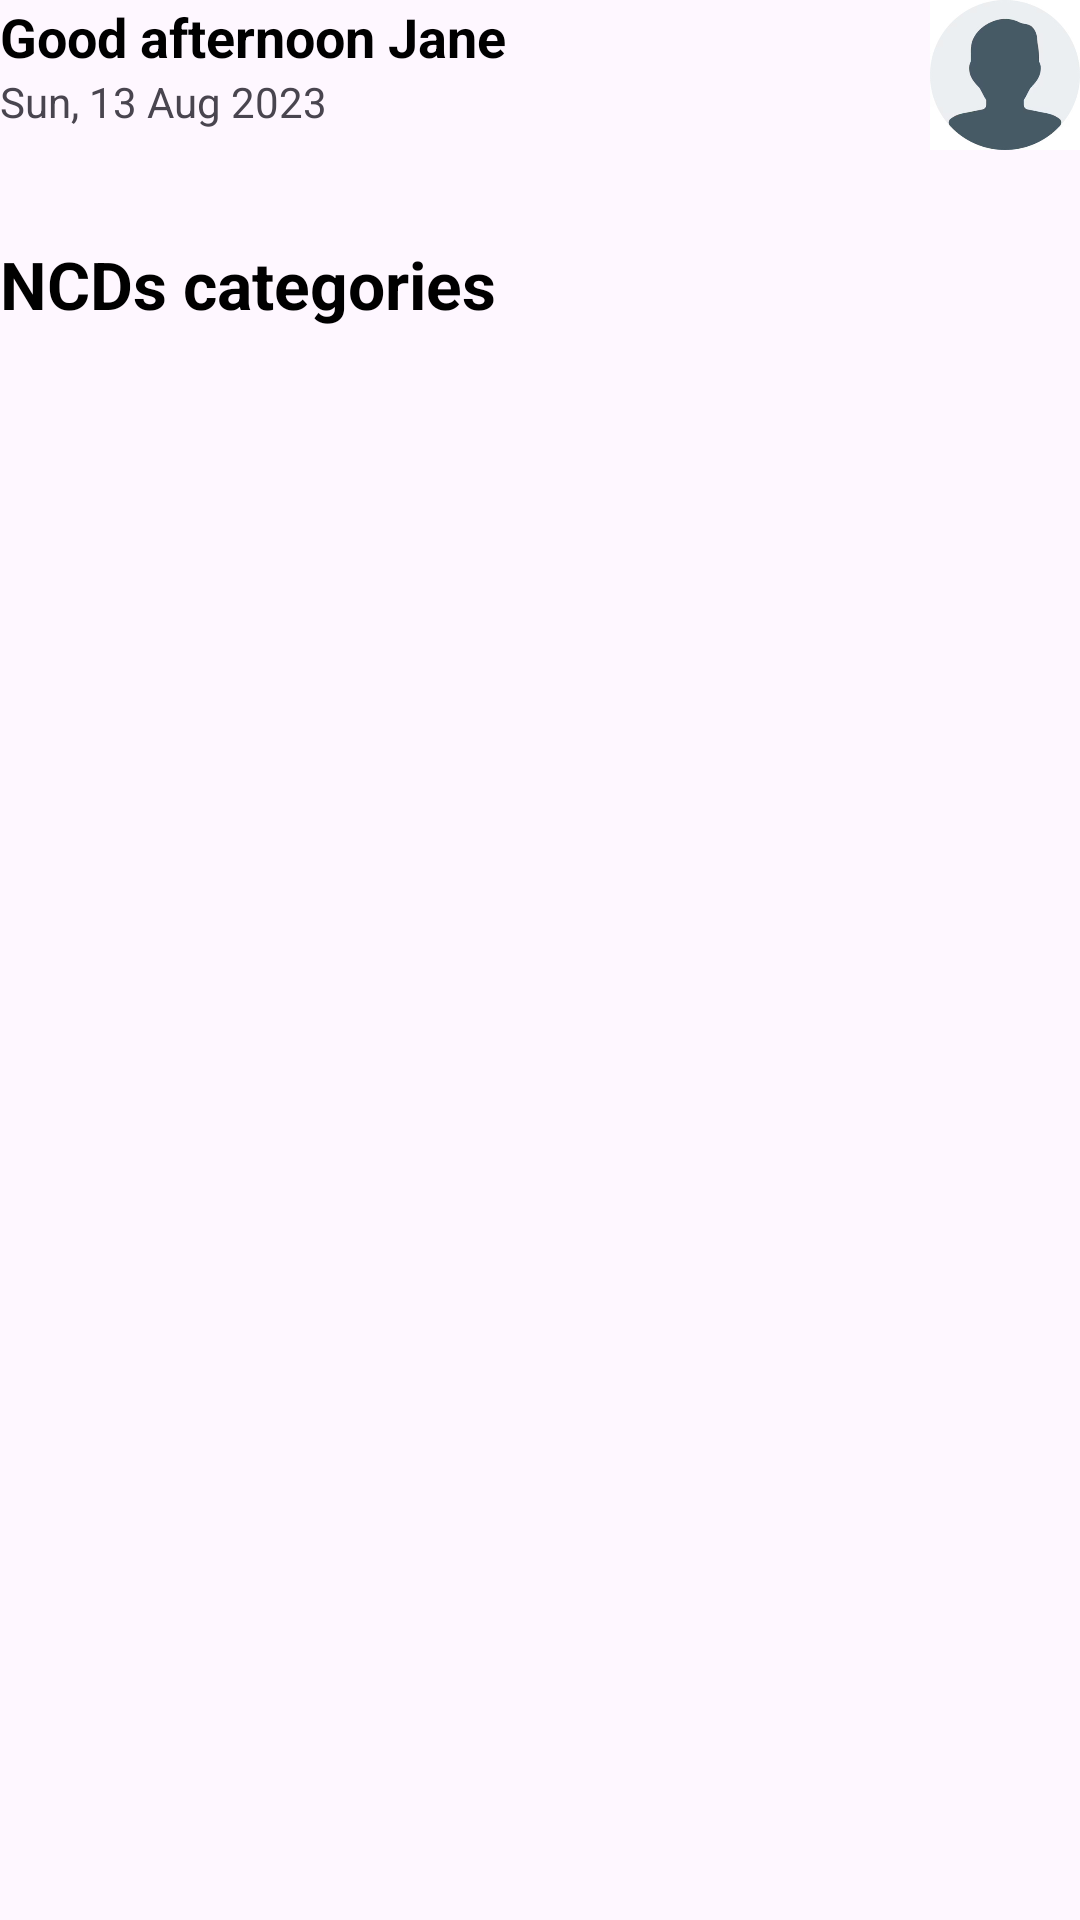

Icons on this 1080w x 1920h Android screen, each with the point to tap as [x,y]:
avator: [1005,84]
